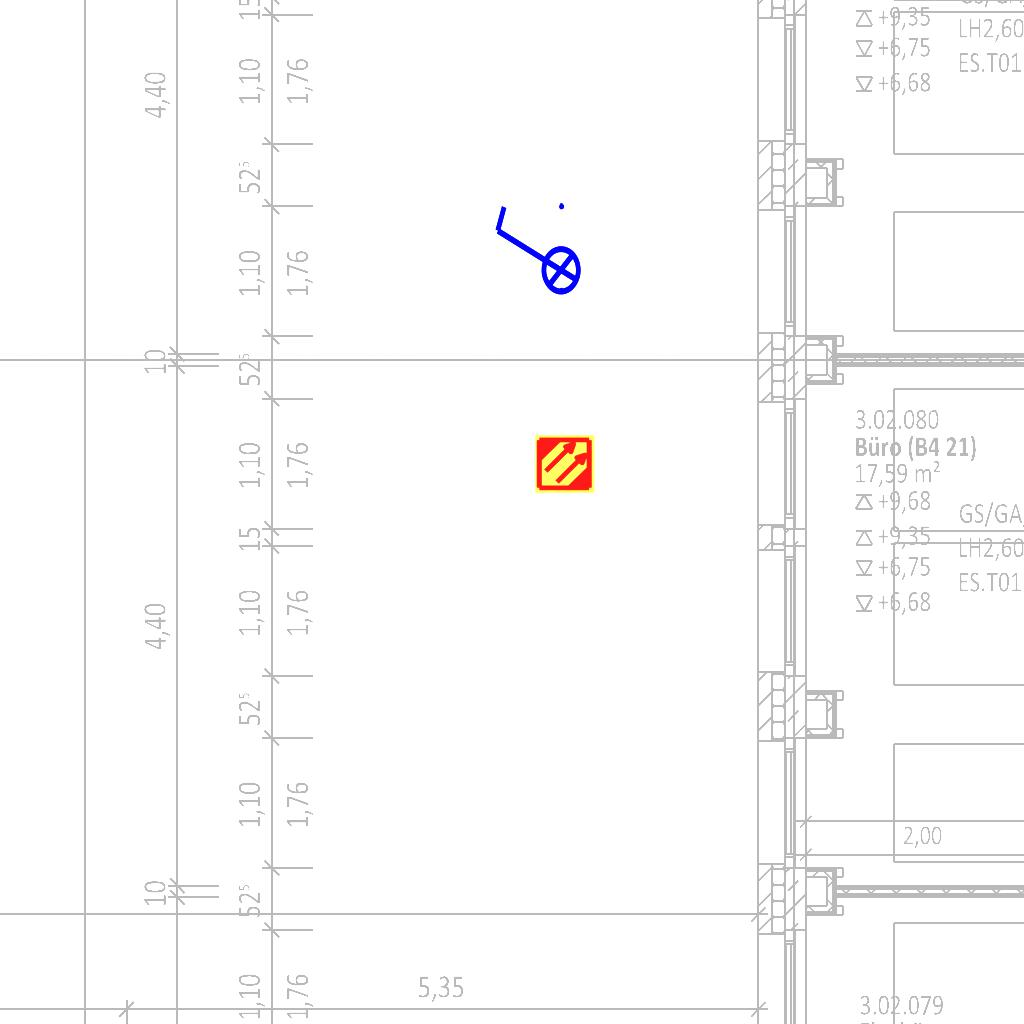ASR_Ansaugrauchmelder: (534, 433, 596, 495)
Ausschalter_beleuchtet: (487, 197, 583, 309)
